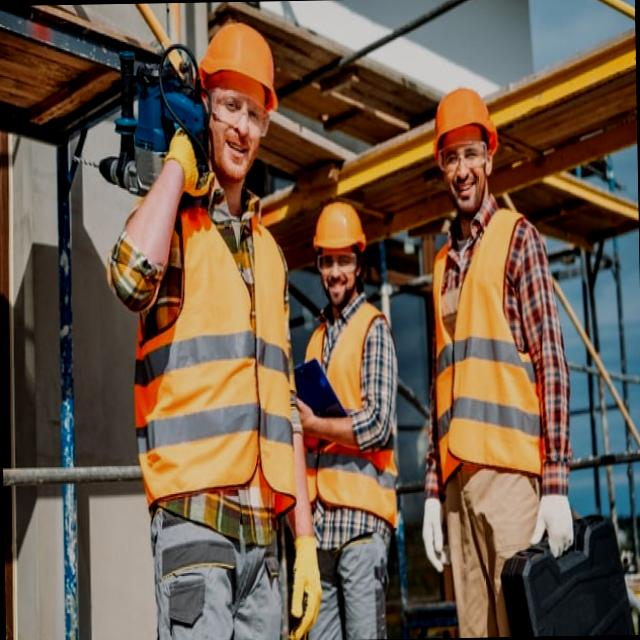goggles: (202, 82, 273, 150), (429, 140, 492, 174), (314, 249, 360, 276)
helmet: (187, 17, 277, 118), (427, 84, 500, 156), (308, 196, 368, 253)
vest: (127, 202, 301, 528), (424, 204, 546, 491), (293, 299, 400, 534)
